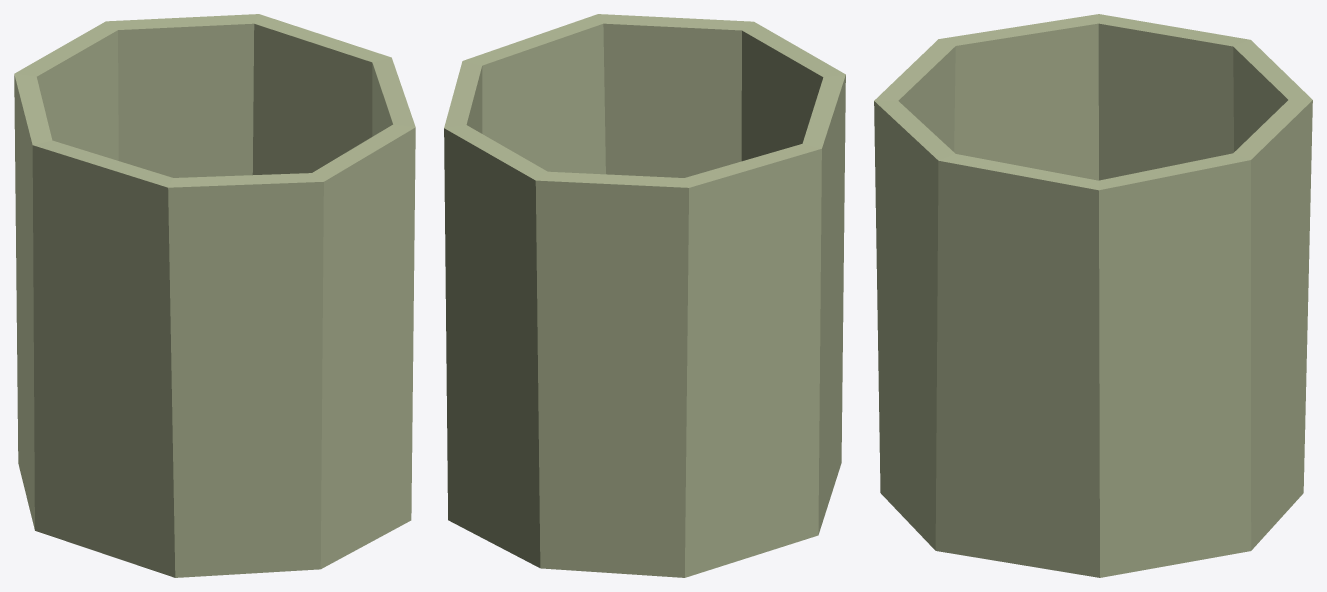
The model's file is Childrens_Room_Vase.fbx.
3 views of the same model, side by side, from view 1: azimuth 30°, elevation 25°; view 2: azimuth 150°, elevation 25°; view 3: azimuth 270°, elevation 25° (orthographic).
Visible parts, largest first — view 1: Childrens_Room_Vase; view 2: Childrens_Room_Vase; view 3: Childrens_Room_Vase.
Boxes of the visible parts, left/top/right/bottom form: Childrens_Room_Vase: left=14, top=14, right=415, bottom=577; Childrens_Room_Vase: left=444, top=14, right=845, bottom=577; Childrens_Room_Vase: left=874, top=14, right=1312, bottom=577.
Size of the model in its own units: 19.22 by 20.34 by 20.22.
